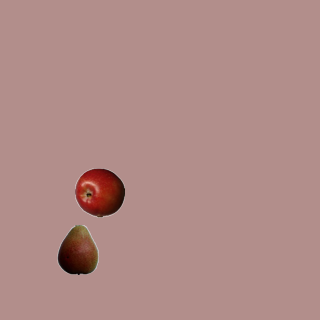Apple Braeburn: (74, 167, 124, 217)
Pear Forelle: (52, 224, 102, 274)
